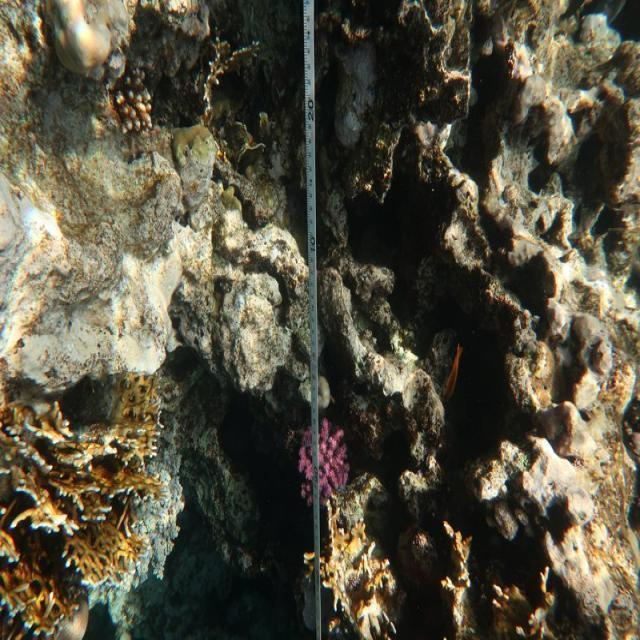Healthy Coral: (0, 374, 168, 638), (296, 419, 353, 521)
